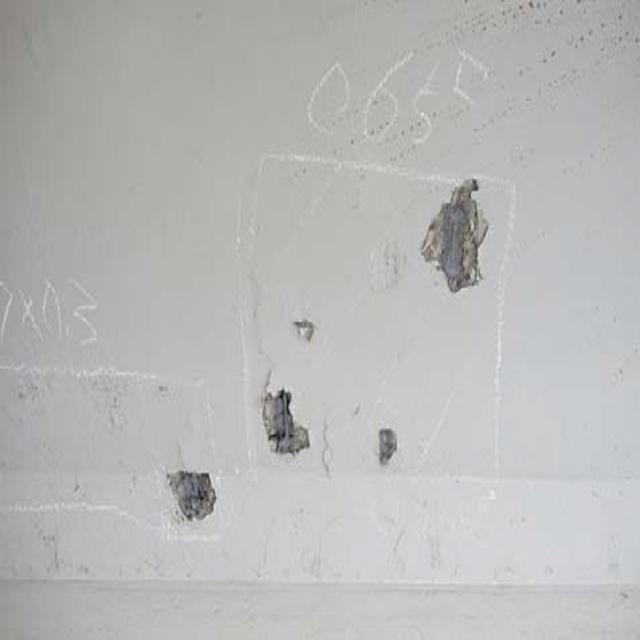spalling: (413, 151, 496, 316), (243, 358, 326, 473), (154, 450, 214, 536), (366, 406, 408, 478)
